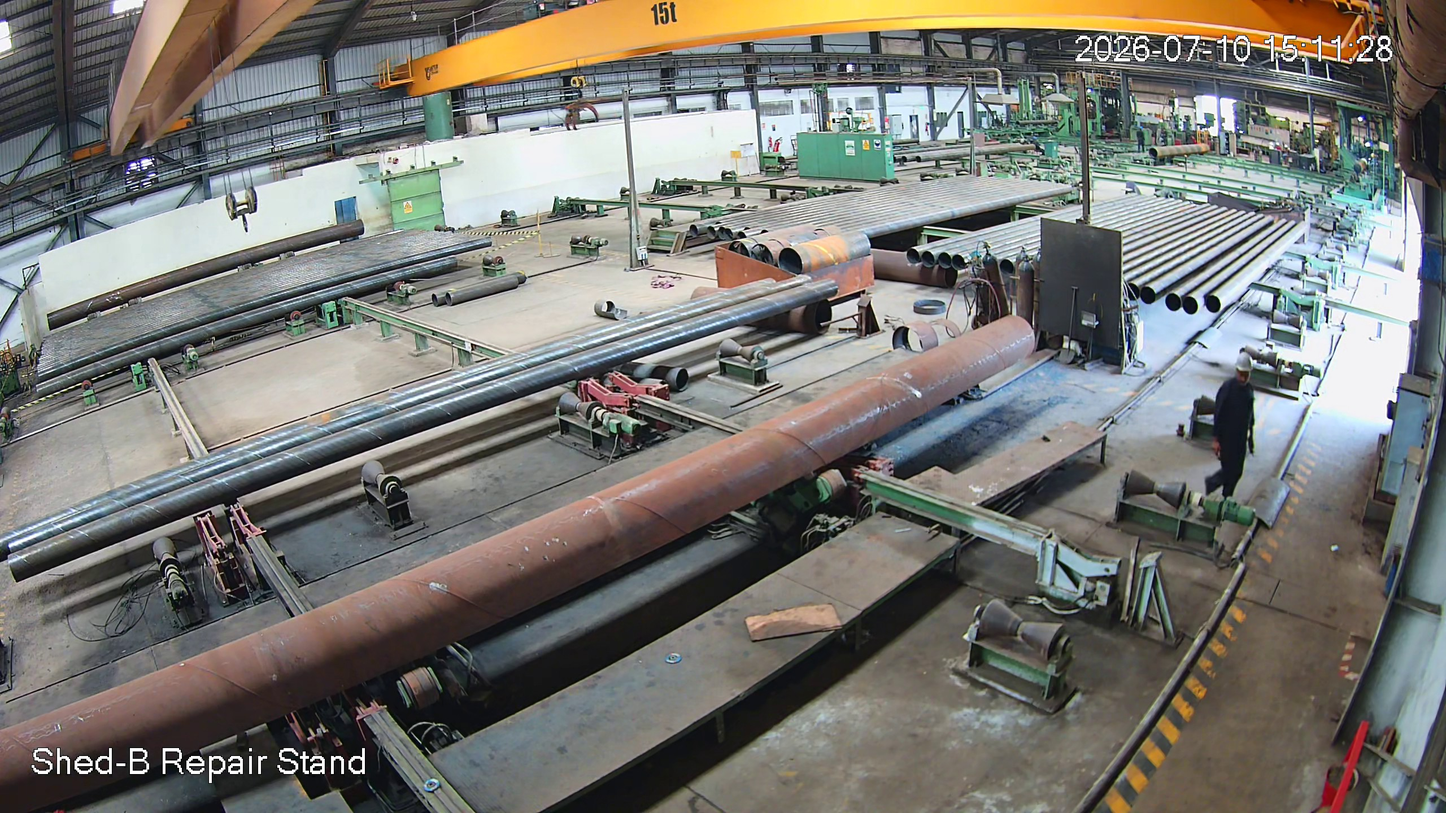Helmet: (1232, 349, 1262, 387)
Person: (1214, 354, 1262, 498)
